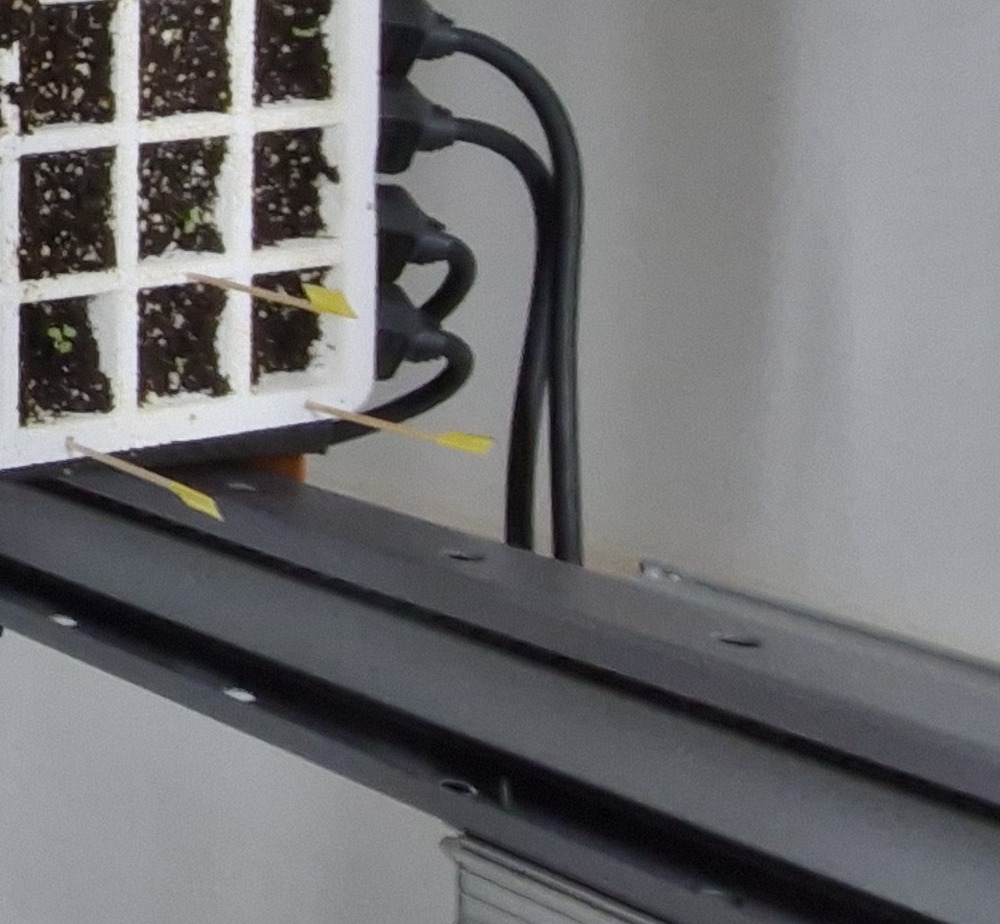Folha: (47, 328, 63, 342), (184, 220, 199, 232), (191, 209, 202, 223), (65, 324, 77, 336), (61, 342, 73, 352)
Germinacao: (49, 329, 72, 353), (183, 208, 204, 234), (65, 325, 76, 337)
